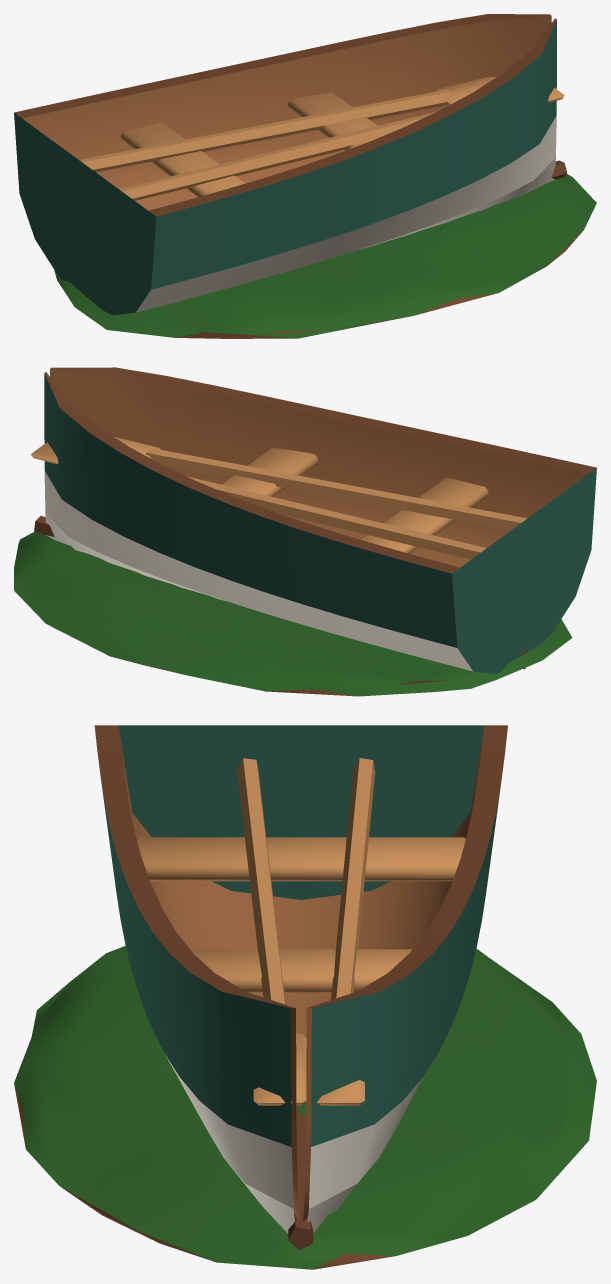
File: RowBoat.fbx
The picture shows the model from 3 angles, top to bottom: view 1: azimuth 30°, elevation 25°; view 2: azimuth 150°, elevation 25°; view 3: azimuth 270°, elevation 25°; orthographic projection. The views are drawn at different scales.
Parts seen in each view (by area): view 1: RowBoat; view 2: RowBoat; view 3: RowBoat.
Boxes of the visible parts, x1,y1,x2,y2 form: RowBoat: [14, 14, 596, 338]; RowBoat: [14, 367, 596, 696]; RowBoat: [14, 725, 596, 1269].
Size of the model in its own units: 1.6 by 0.5448 by 1.1.
Materials: 1 (1 with a texture image).
